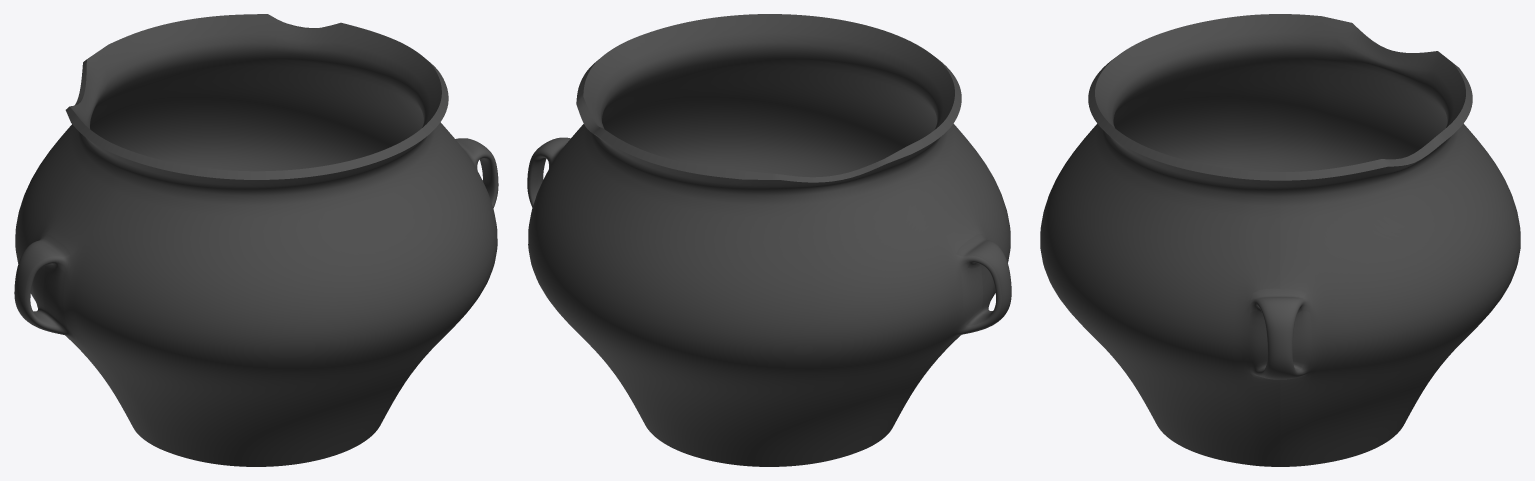
The model's file is vase3.fbx.
3 renders of one model, left to right at view 1: azimuth 30°, elevation 25°; view 2: azimuth 150°, elevation 25°; view 3: azimuth 270°, elevation 25°, orthographic.
Parts seen in each view (by area): view 1: Окружность.002; view 2: Окружность.002; view 3: Окружность.002.
Part boxes in pixels (bbox=[...]): Окружность.002: bbox=[14, 14, 498, 466]; Окружность.002: bbox=[527, 14, 1011, 466]; Окружность.002: bbox=[1040, 14, 1520, 466].
Bounding box in the file's own units: 143 × 91.69 × 125.
